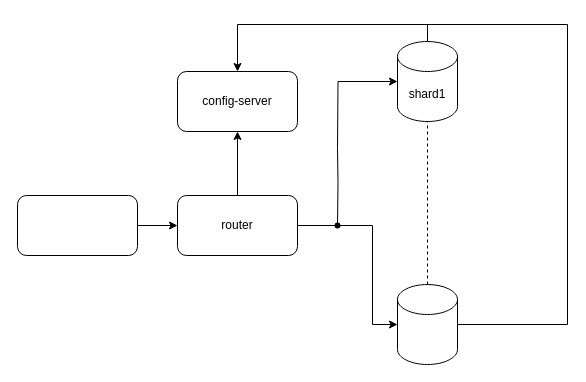
The diagram is 586 pixels wide and 382 high, and some of its shapes have lost their labels. Here are the shapes that lost their labels. From the top down, the centre of each, then its label:
At [77,225]: "pymongo-api".
At [427,324]: "shard2".
